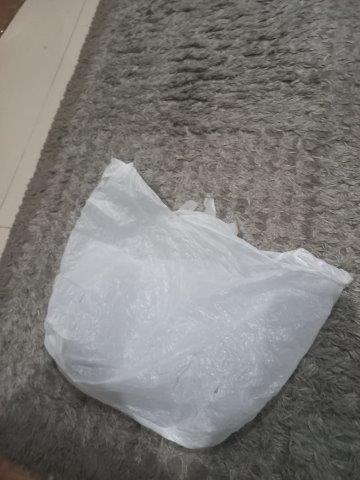plastik: (43, 159, 351, 446)
